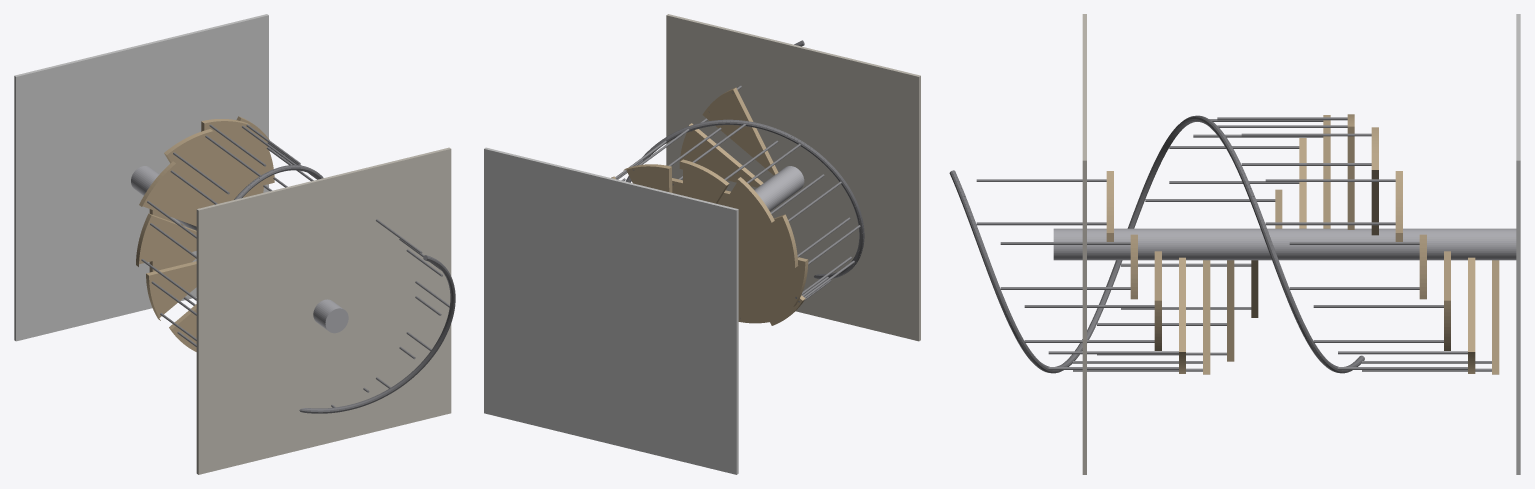
Rendered from MERDIVEN_helezon_3m_3D.glb.
3 views of the same model, side by side, from view 1: azimuth 30°, elevation 25°; view 2: azimuth 150°, elevation 25°; view 3: azimuth 270°, elevation 25° (orthographic). The views are drawn at different scales.
Visible parts, largest first — view 1: geometry_54, geometry_53, geometry_52, geometry_22, geometry_19, geometry_25, geometry_28, geometry_16, geometry_0, geometry_13, geometry_10, geometry_31 (+1 smaller); view 2: geometry_53, geometry_54, geometry_49, geometry_25, geometry_52, geometry_46, geometry_28, geometry_22, geometry_31, geometry_19, geometry_0, geometry_34 (+1 smaller); view 3: geometry_0, geometry_52, geometry_53, geometry_54, geometry_4, geometry_1, geometry_37, geometry_19, geometry_16, geometry_40, geometry_34, geometry_22 (+3 smaller).
Part boxes in pixels (bbox=[...]): geometry_54: bbox=[196, 147, 451, 474]; geometry_53: bbox=[14, 14, 268, 341]; geometry_52: bbox=[234, 165, 455, 413]; geometry_22: bbox=[139, 161, 202, 226]; geometry_19: bbox=[164, 129, 212, 207]; geometry_25: bbox=[136, 213, 196, 266]; geometry_28: bbox=[146, 261, 196, 320]; geometry_16: bbox=[201, 119, 249, 198]; geometry_0: bbox=[131, 166, 348, 333]; geometry_13: bbox=[214, 116, 269, 192]; geometry_10: bbox=[211, 148, 274, 197]; geometry_31: bbox=[169, 304, 196, 351]; geometry_53: bbox=[484, 147, 738, 474]; geometry_54: bbox=[666, 14, 920, 341]; geometry_49: bbox=[702, 87, 778, 175]; geometry_25: bbox=[738, 214, 798, 267]; geometry_52: bbox=[625, 40, 864, 278]; geometry_46: bbox=[679, 123, 763, 187]; geometry_28: bbox=[738, 252, 808, 306]; geometry_22: bbox=[723, 177, 774, 233]; geometry_31: bbox=[738, 257, 805, 325]; geometry_19: bbox=[680, 159, 729, 203]; geometry_0: bbox=[754, 166, 804, 211]; geometry_34: bbox=[738, 260, 769, 323]; geometry_0: bbox=[1053, 228, 1516, 260]; geometry_52: bbox=[949, 115, 1364, 373]; geometry_53: bbox=[1516, 14, 1520, 474]; geometry_54: bbox=[1082, 14, 1086, 474]; geometry_4: bbox=[1468, 257, 1475, 373]; geometry_1: bbox=[1492, 260, 1499, 374]; geometry_37: bbox=[1203, 260, 1210, 374]; geometry_19: bbox=[1347, 114, 1354, 229]; geometry_16: bbox=[1371, 127, 1378, 235]; geometry_40: bbox=[1179, 257, 1185, 373]; geometry_34: bbox=[1227, 260, 1234, 361]; geometry_22: bbox=[1323, 115, 1330, 228].
Size of the model in its own units: 2.4 by 2.4 by 3.95.
